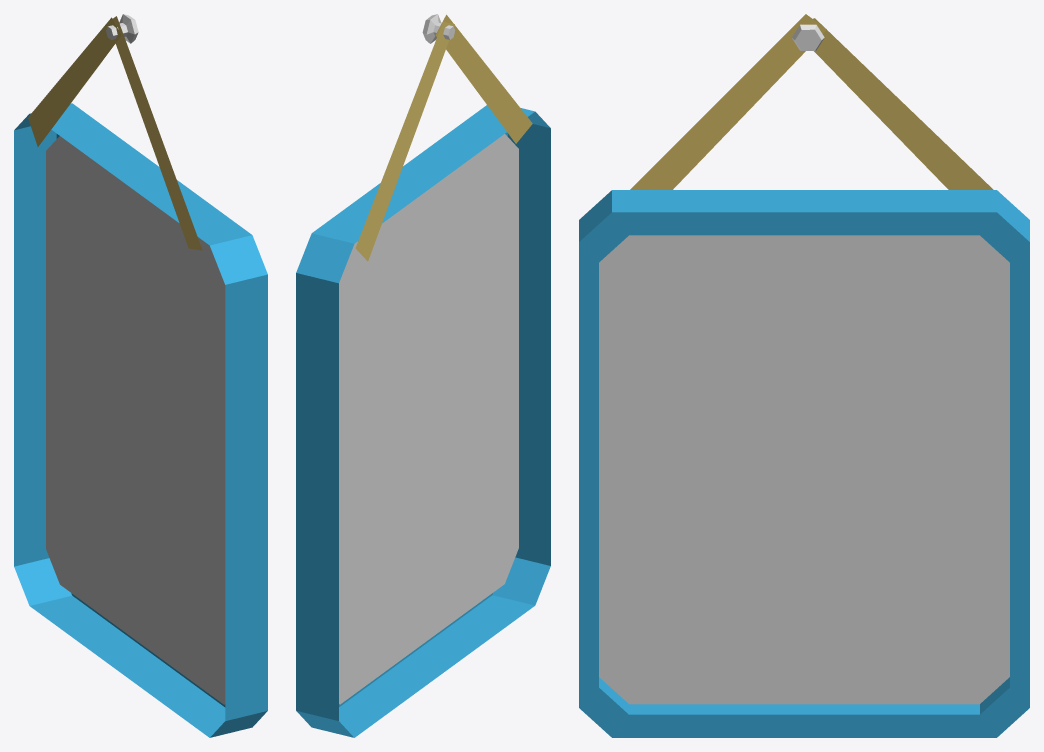
Rendered from Schilderij.fbx.
3 renders of one model, left to right at view 1: azimuth 30°, elevation 25°; view 2: azimuth 150°, elevation 25°; view 3: azimuth 270°, elevation 25°, orthographic. The views are drawn at different scales.
Visible parts, largest first — view 1: Cube; view 2: Cube; view 3: Cube.
Part boxes in pixels (x1,y1,x2,y2): Cube: (14,14,267,737); Cube: (296,14,550,737); Cube: (579,14,1029,737).
Size of the model in its own units: 41.11 by 503 by 293.
